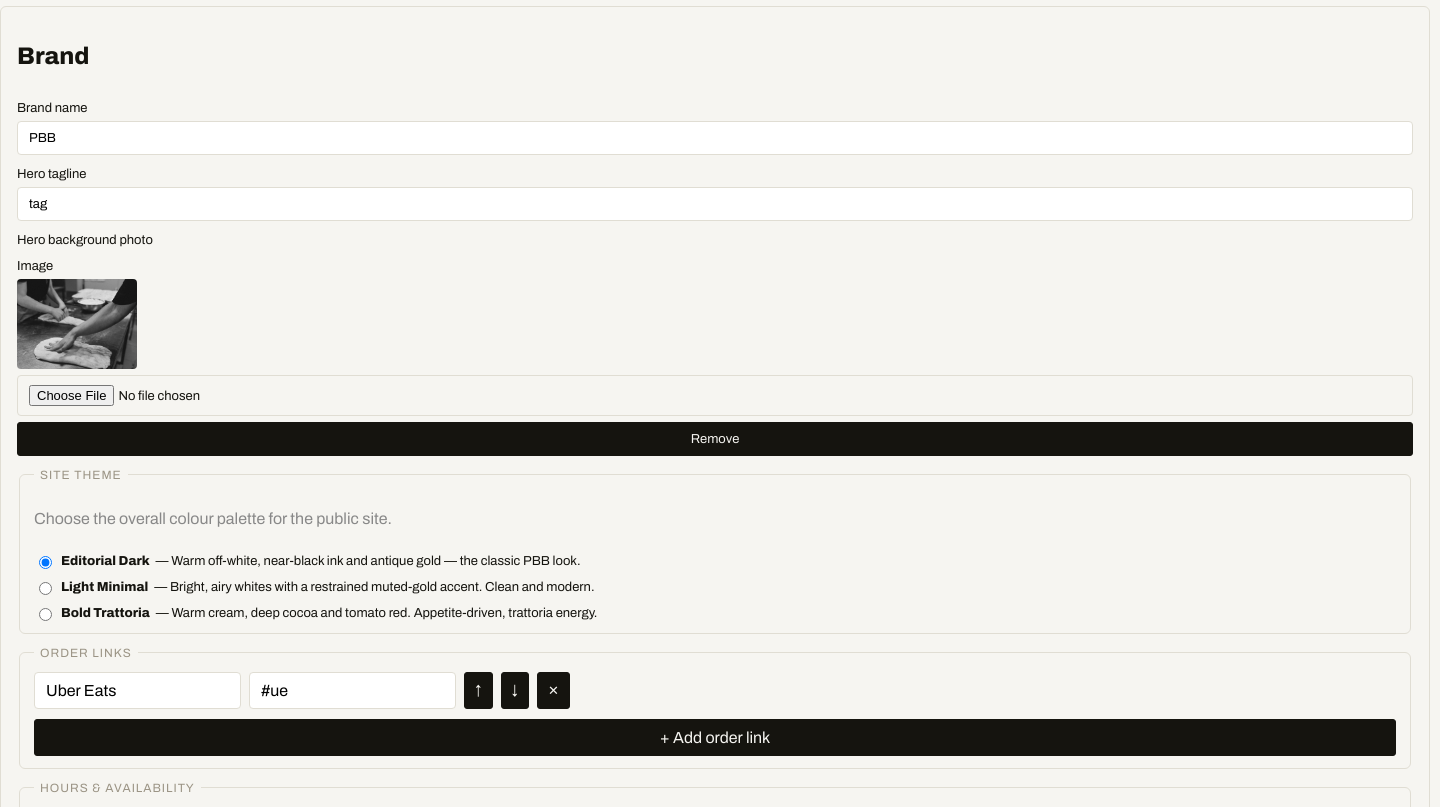
Test case: BrandEditor › saves the assembled input and shows Saved
The width and height of the screenshot is (1440, 807).
Replace the text in the field named "order link 1 url" with "https://ubereats.com/pbb" at (352, 690), box [249, 672, 456, 709]
(page scrolled)
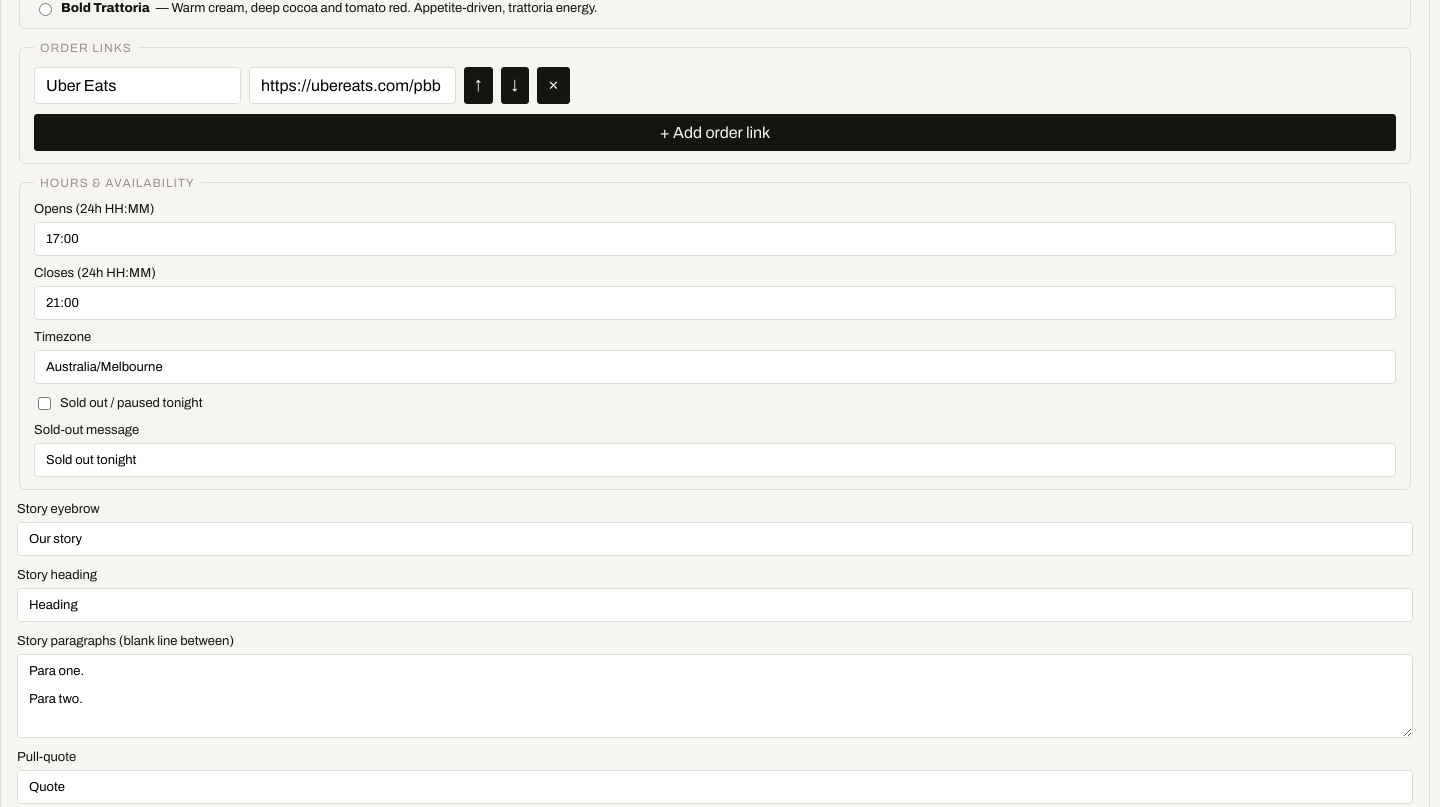
Click the checkbox labelled "Sold out / paused tonight" at (44, 403), box [38, 397, 51, 410]
(page scrolled)
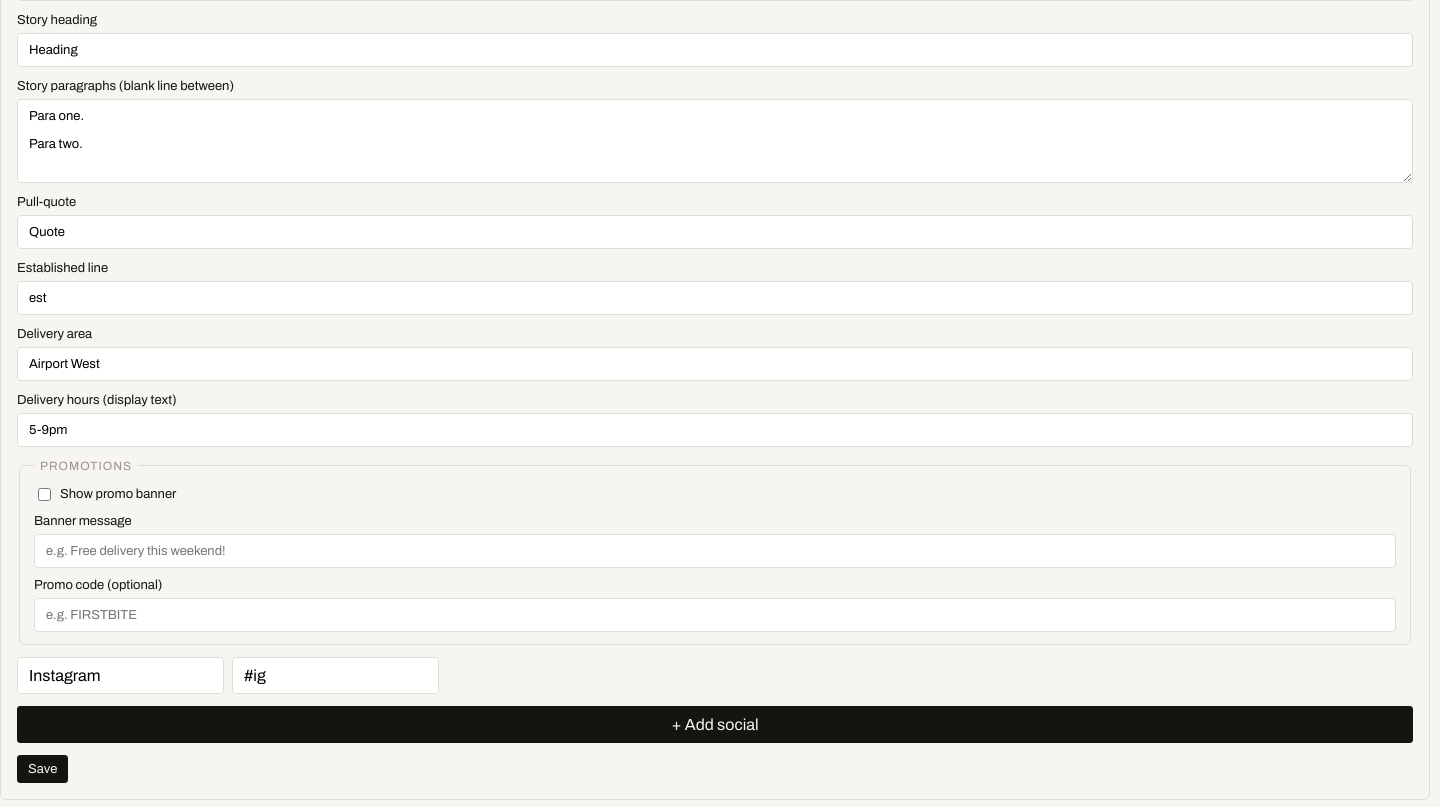
Click the button "Save" at (43, 769), box [17, 755, 68, 783]
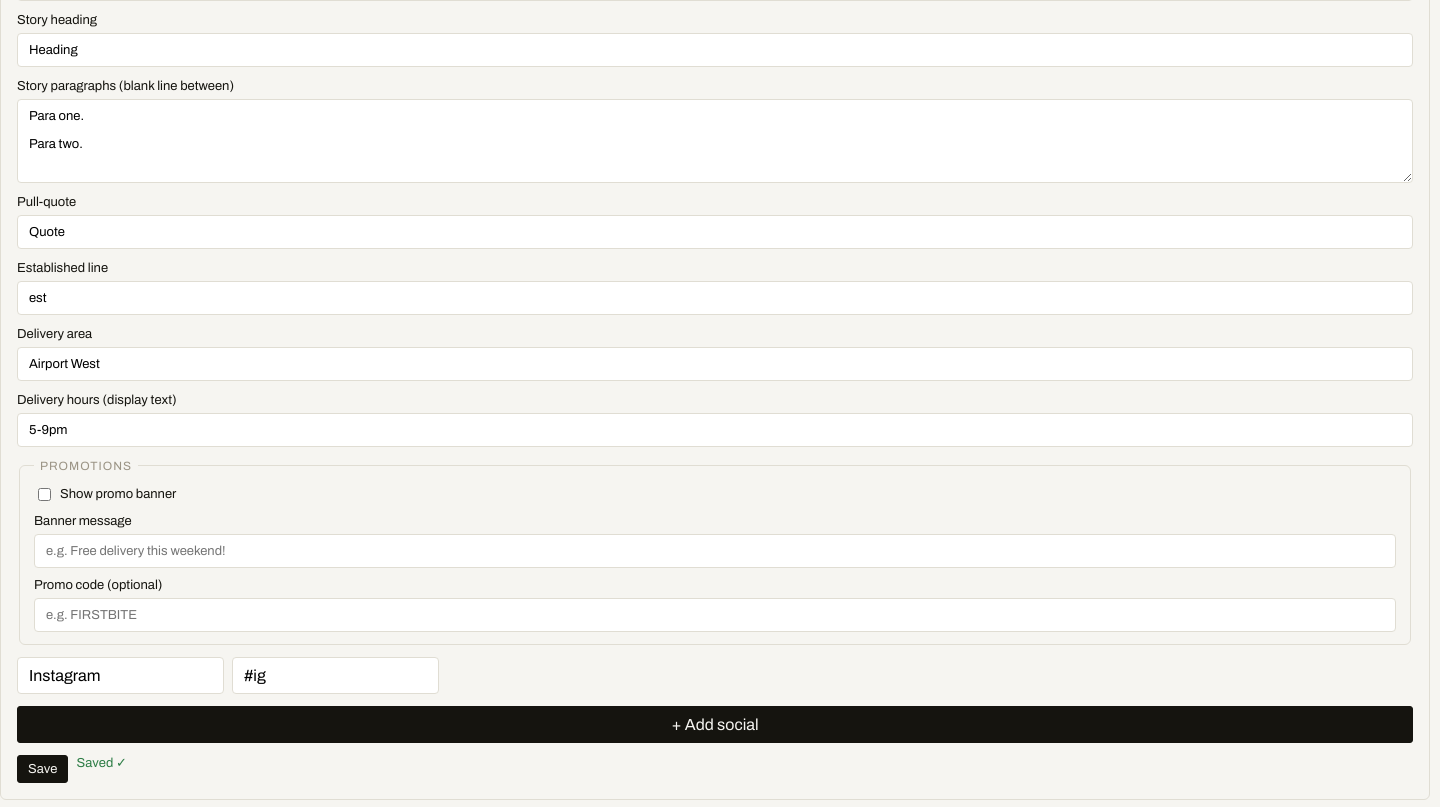
Expected: the text "Saved ✓" is shown, [76, 756, 127, 770]
